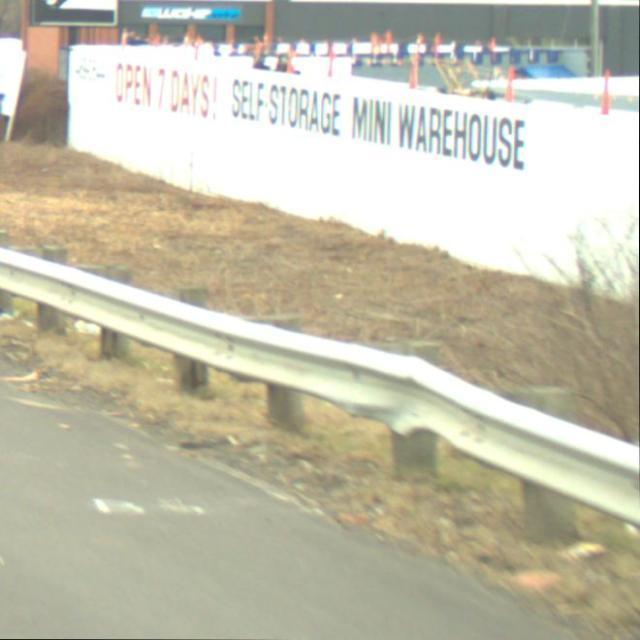Guard rail: (0, 248, 640, 564)
